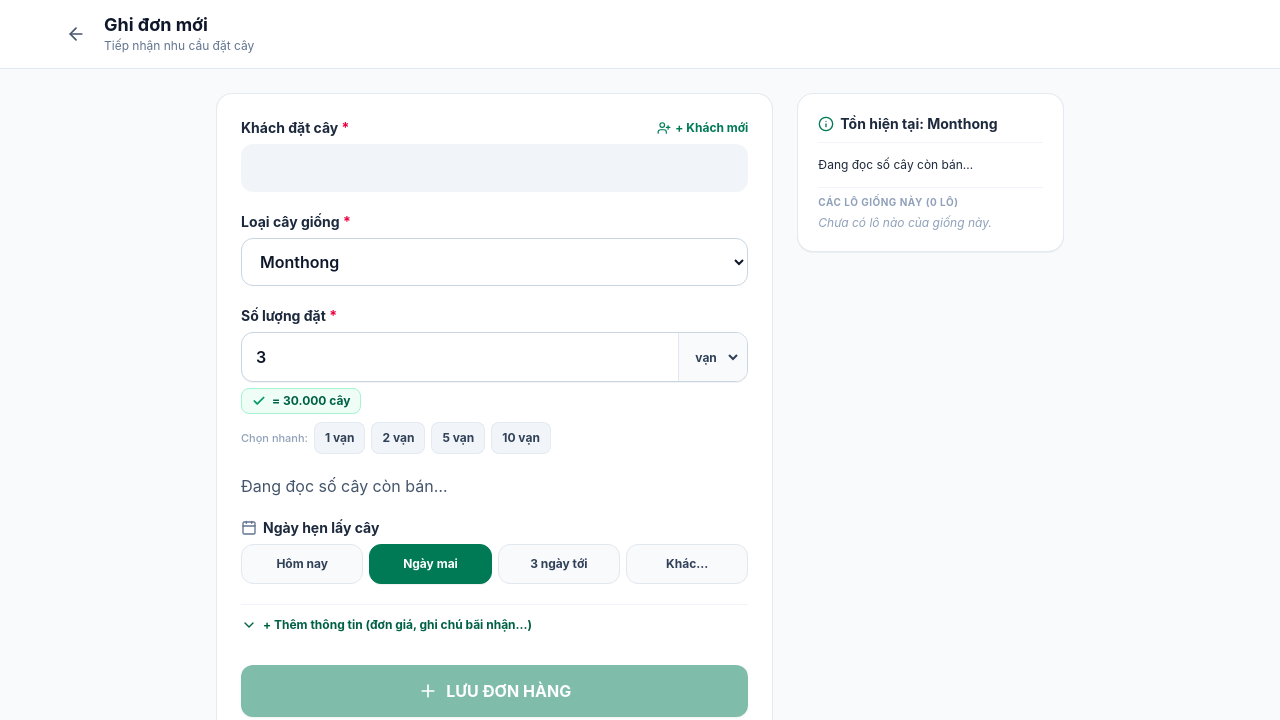
Test: Issue #42 OrderNew availability (real Dexie) › C4214: older variety error cannot overwrite latest result; loading never shows false zero
Expected: the text "Cây còn bán:" is not shown
Select "Keo lai BV16" in the dropdown labelled "Loại cây giống *": [495, 262] box [241, 238, 748, 286]
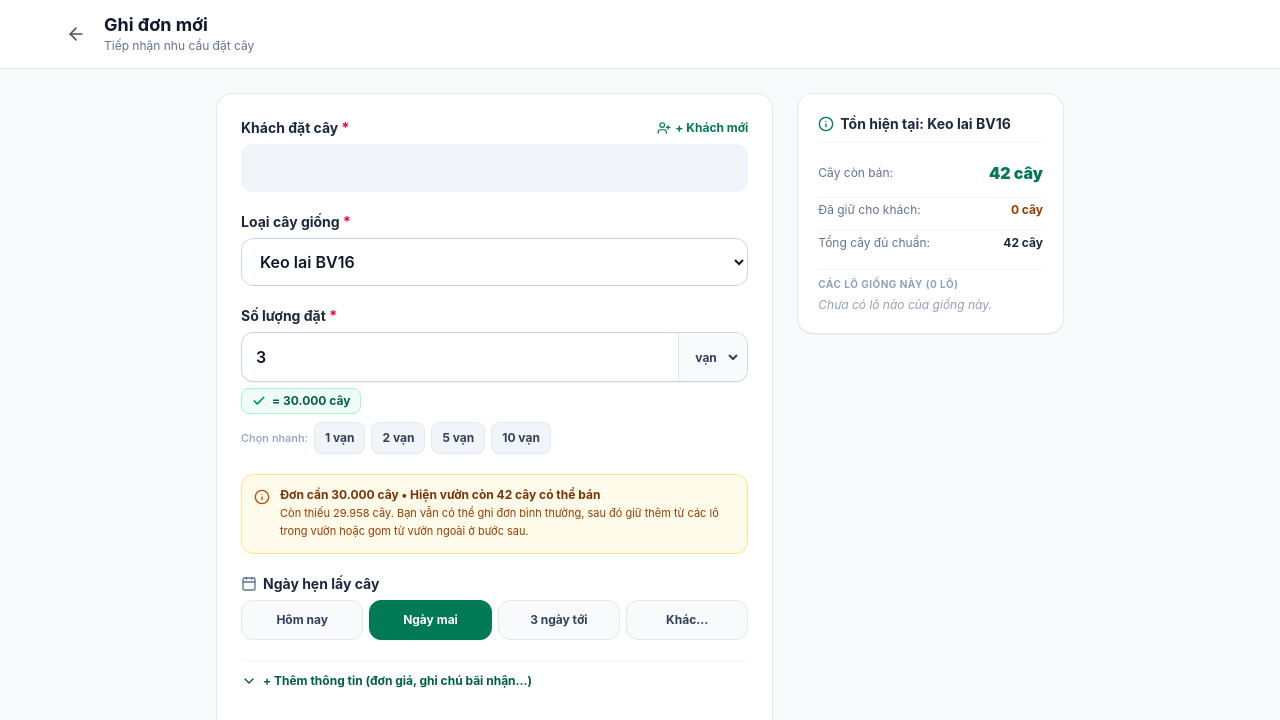
Result: the text "Đơn cần 30.000 cây • Hiện vườn còn 42 cây có thể bán" is shown at [280, 487, 600, 502]
